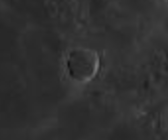crater: (31, 27, 143, 105)
